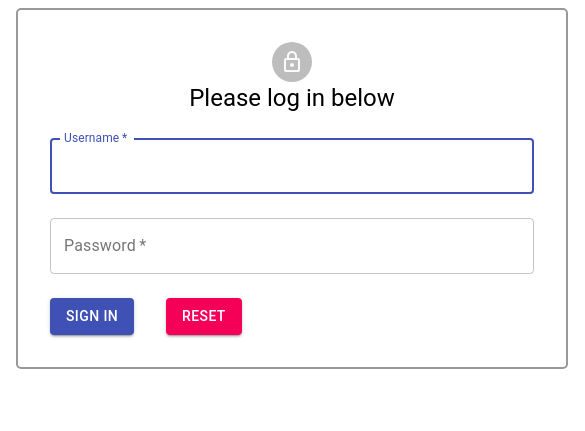
Expect error message if submit is clicked without filling username
Click the button with id "signup-btn": click(92, 316) [50,298,134,334]
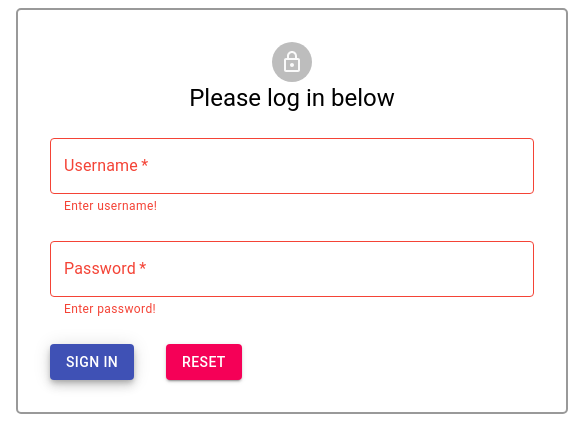
Now the text "Enter username!" is shown, box [64,199,157,213]
